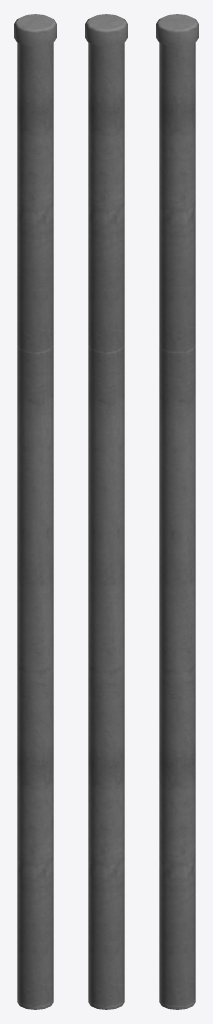
The model's file is SM_Pole_02.fbx.
The picture shows the model from 3 angles, left to right: view 1: azimuth 30°, elevation 25°; view 2: azimuth 210°, elevation 25°; view 3: azimuth 330°, elevation 25°; orthographic projection.
Parts seen in each view (by area): view 1: SM_Pole_LOD0; view 2: SM_Pole_LOD0; view 3: SM_Pole_LOD0.
Part boxes in pixels (box(x1,y1,x2,y2)): SM_Pole_LOD0: box(14, 14, 56, 1009); SM_Pole_LOD0: box(85, 14, 127, 1009); SM_Pole_LOD0: box(156, 14, 198, 1009).
Size of the model in its own units: 9.92 by 9.92 by 250.
